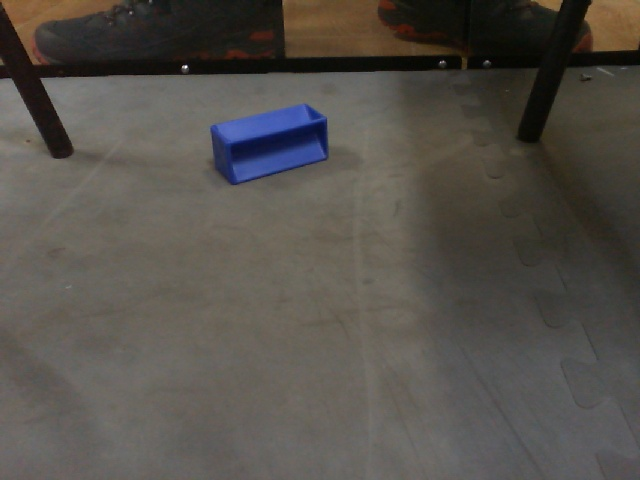BlueSample: (201, 101, 334, 186)
